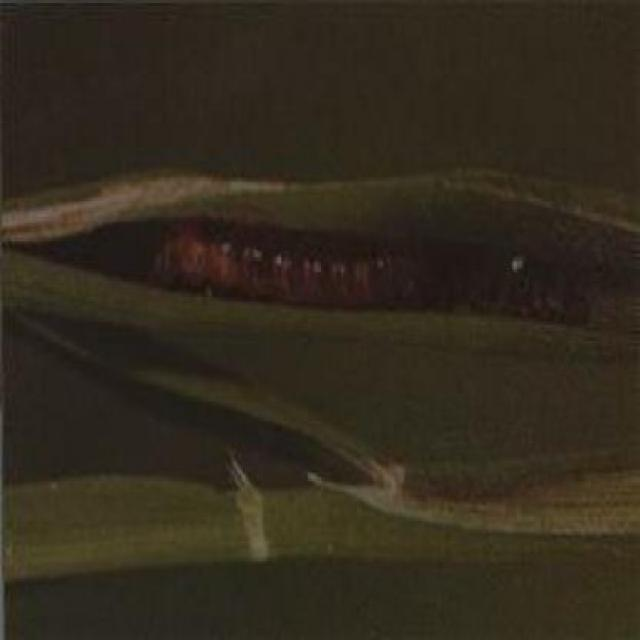leaf-folder: (132, 183, 472, 379)
